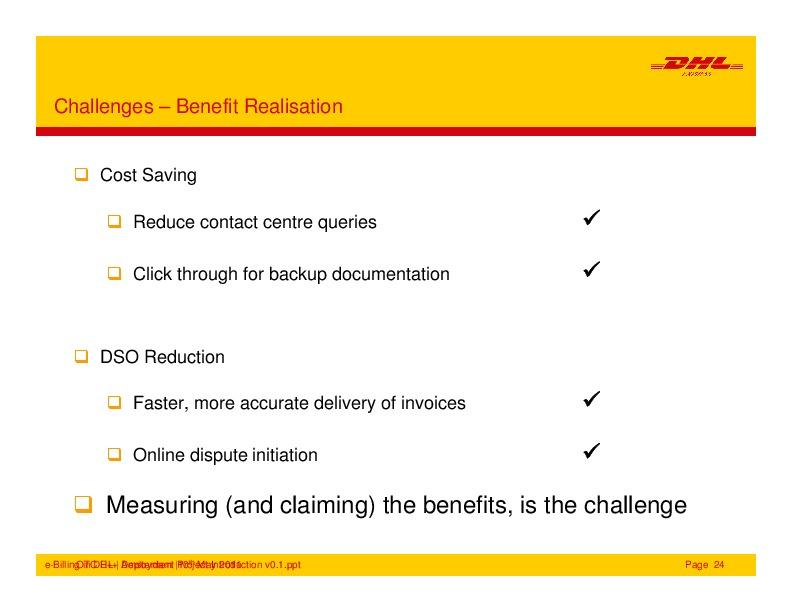paragraph: (63, 155, 712, 536)
subtitle: (28, 548, 757, 580)
title: (47, 90, 350, 120)
